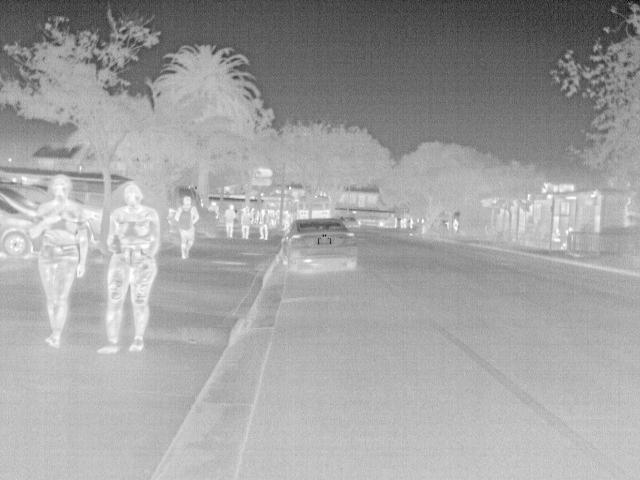car: (281, 216, 362, 274), (1, 190, 39, 261)
person: (98, 180, 164, 355), (28, 174, 92, 352), (172, 193, 200, 260), (235, 203, 253, 243), (256, 206, 272, 239), (223, 203, 237, 239), (550, 225, 564, 243), (451, 214, 459, 230)
